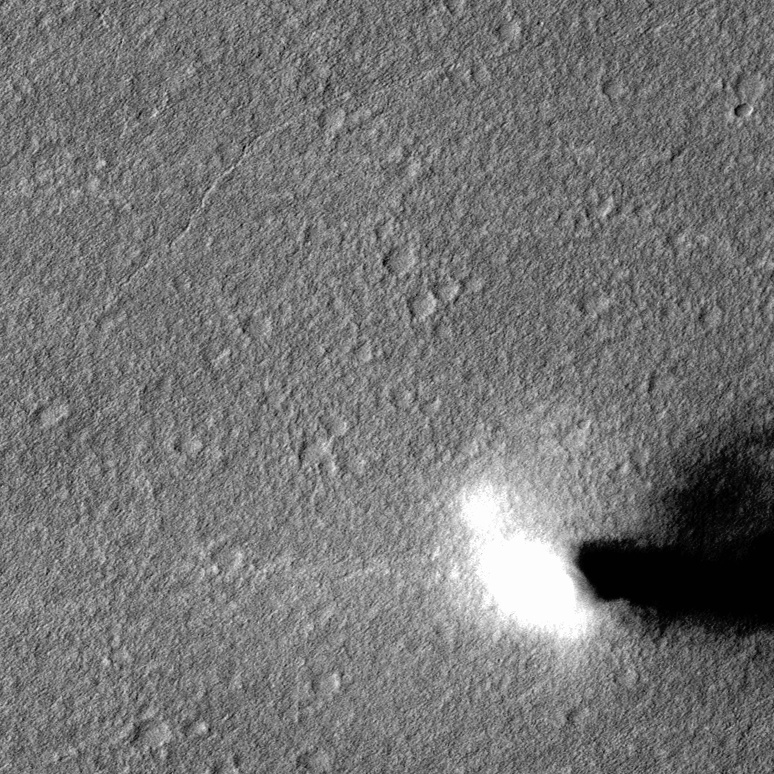dust_devil: (450, 412, 774, 647)
